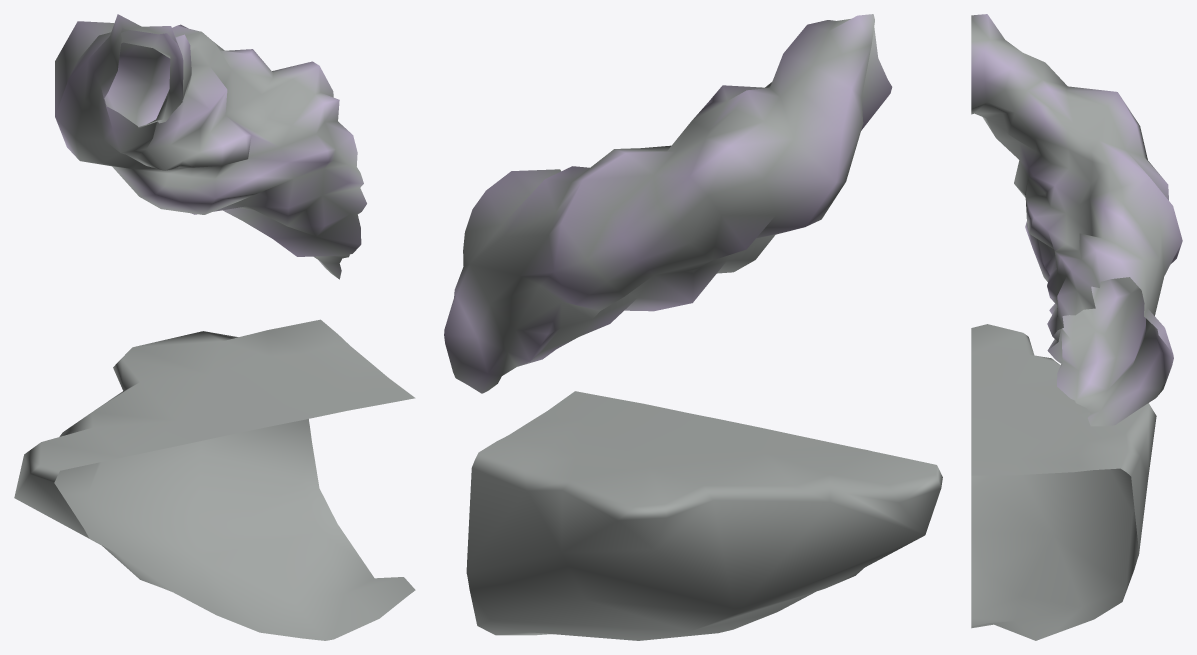
3 views of the same model, side by side, from view 1: azimuth 30°, elevation 25°; view 2: azimuth 150°, elevation 25°; view 3: azimuth 270°, elevation 25° (orthographic). The views are drawn at different scales.
Visible parts, largest first — view 1: G:\FFXIV-MapTools\exports\a2f2\bg\ex1\03_abr_a2\fld\a2f2\bgp (×5); view 2: G:\FFXIV-MapTools\exports\a2f2\bg\ex1\03_abr_a2\fld\a2f2\bgp (×5); view 3: G:\FFXIV-MapTools\exports\a2f2\bg\ex1\03_abr_a2\fld\a2f2\bgp (×5).
Part boxes in pixels (x1,y1,x2,y2): G:\FFXIV-MapTools\exports\a2f2\bg\ex1\03_abr_a2\fld\a2f2\bgp (×5): (14, 14, 415, 640); G:\FFXIV-MapTools\exports\a2f2\bg\ex1\03_abr_a2\fld\a2f2\bgp (×5): (444, 14, 942, 640); G:\FFXIV-MapTools\exports\a2f2\bg\ex1\03_abr_a2\fld\a2f2\bgp (×5): (971, 14, 1182, 640).
Bounding box in the file's own units: 48.2 × 82.47 × 30.09.
